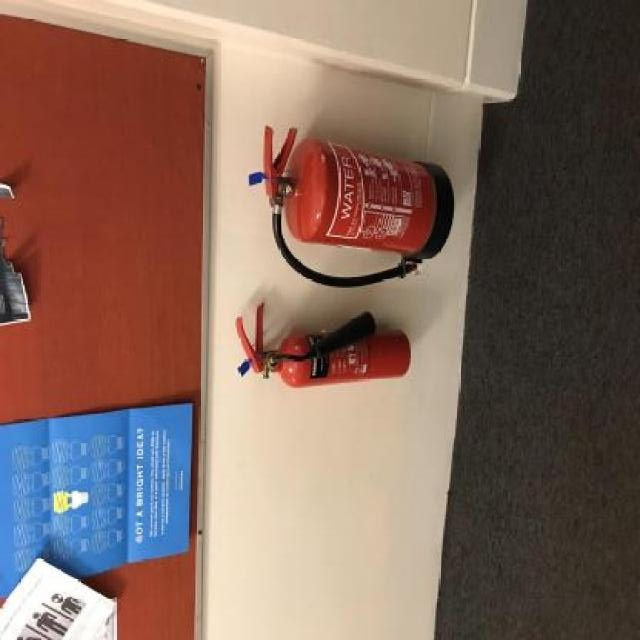fire extinguisher: (247, 124, 456, 291), (237, 301, 411, 388)
